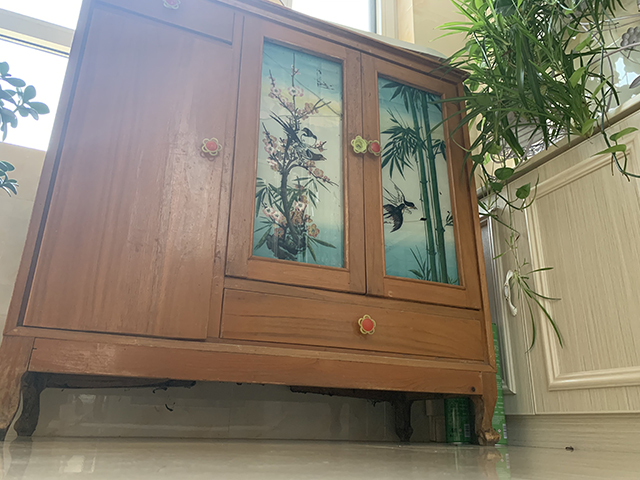cabinet: (1, 1, 502, 448), (476, 92, 640, 445)
